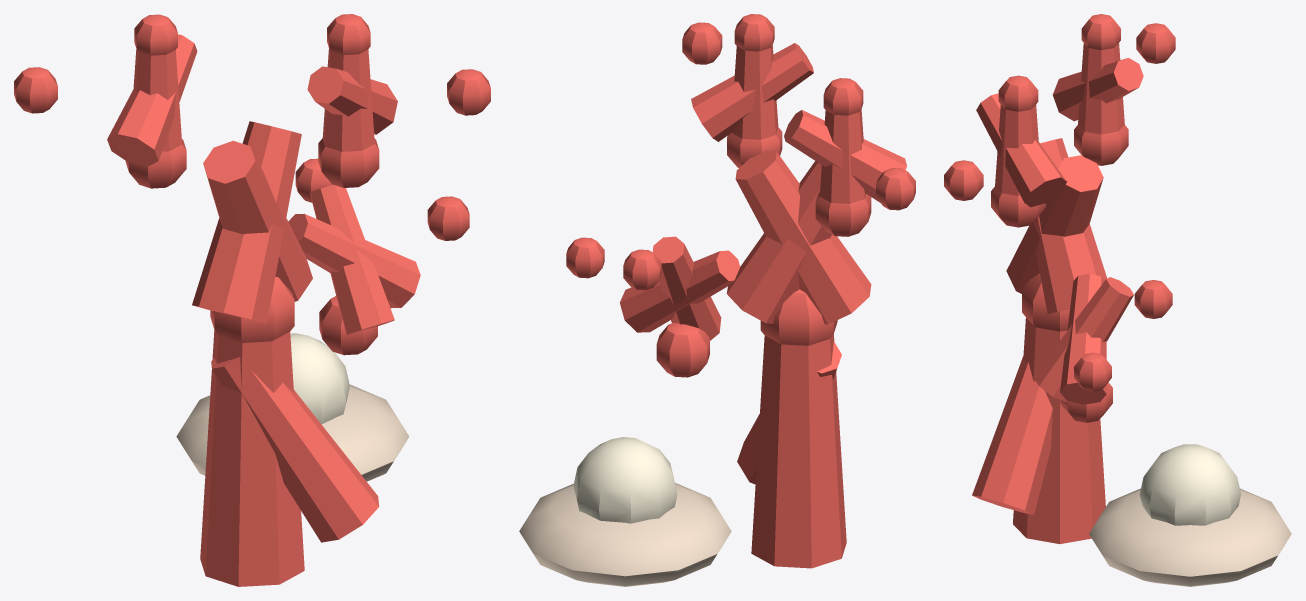
File: LandCoral.fbx
3 views of the same model, side by side, from view 1: azimuth 30°, elevation 25°; view 2: azimuth 150°, elevation 25°; view 3: azimuth 270°, elevation 25° (orthographic). The views are drawn at different scales.
Visible parts, largest first — view 1: LandCoral; view 2: LandCoral; view 3: LandCoral.
Boxes of the visible parts, x1,y1,x2,y2 form: LandCoral: (14,14,490,586); LandCoral: (519,14,915,586); LandCoral: (944,14,1291,586).
Bounding box in the file's own units: 576 × 728 × 480.
